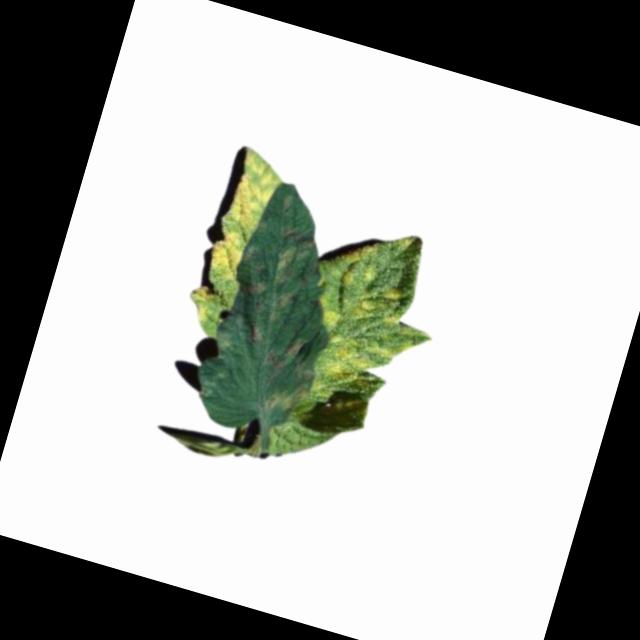Leaf_Mold: (280, 208, 459, 423), (218, 189, 361, 420), (183, 142, 287, 334)
